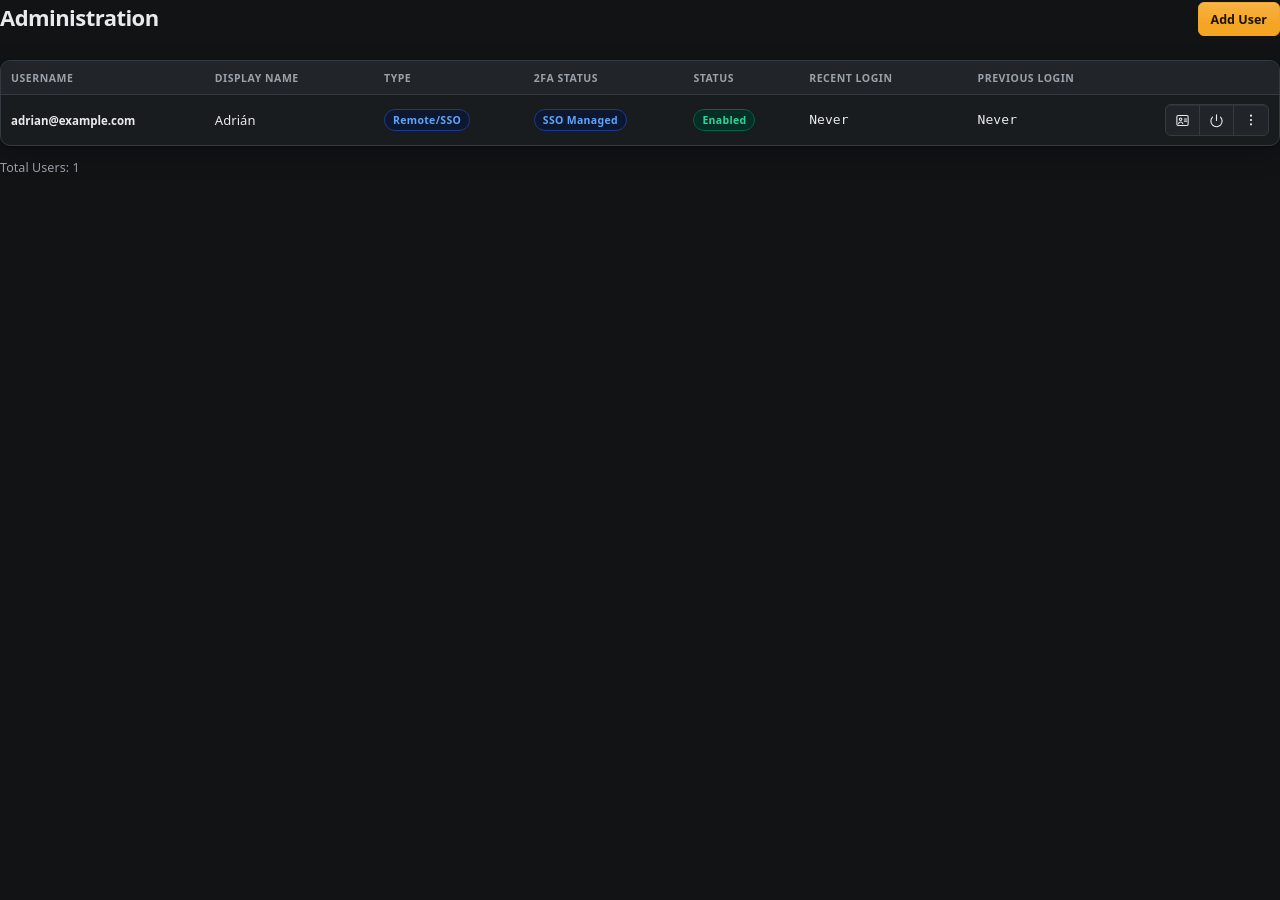
Test: Users: the details modal › the details modal labels an SSO user Remote/SSO and its 2FA SSO Managed
The image size is (1280, 900).
Step 1. Click the button named "View Details" → (1182,120), box top-left (1166, 105), bottom-right (1199, 135)
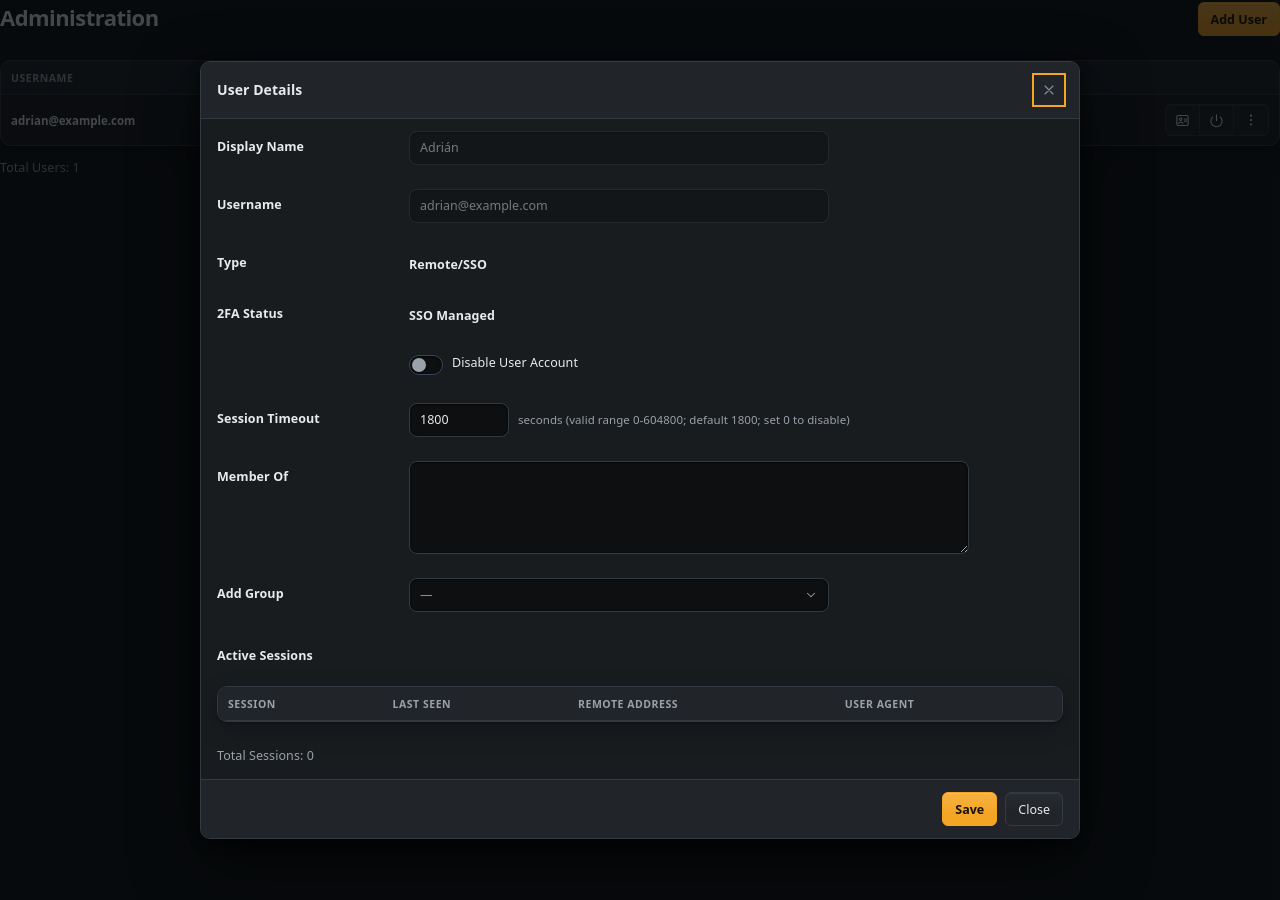
Expected: the text "Remote/SSO" is shown, top-left (409, 256), bottom-right (487, 273)
Expected: the text "SSO Managed" is shown, top-left (409, 307), bottom-right (495, 324)
